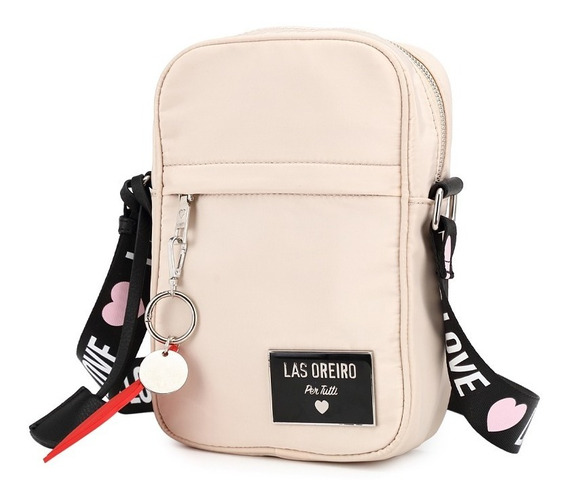cartera: (140, 23, 461, 467)
